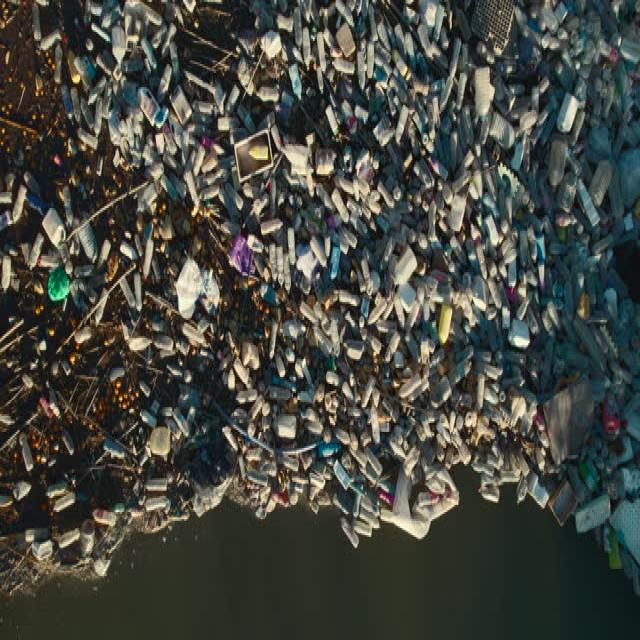plastic: (110, 29, 540, 503)
